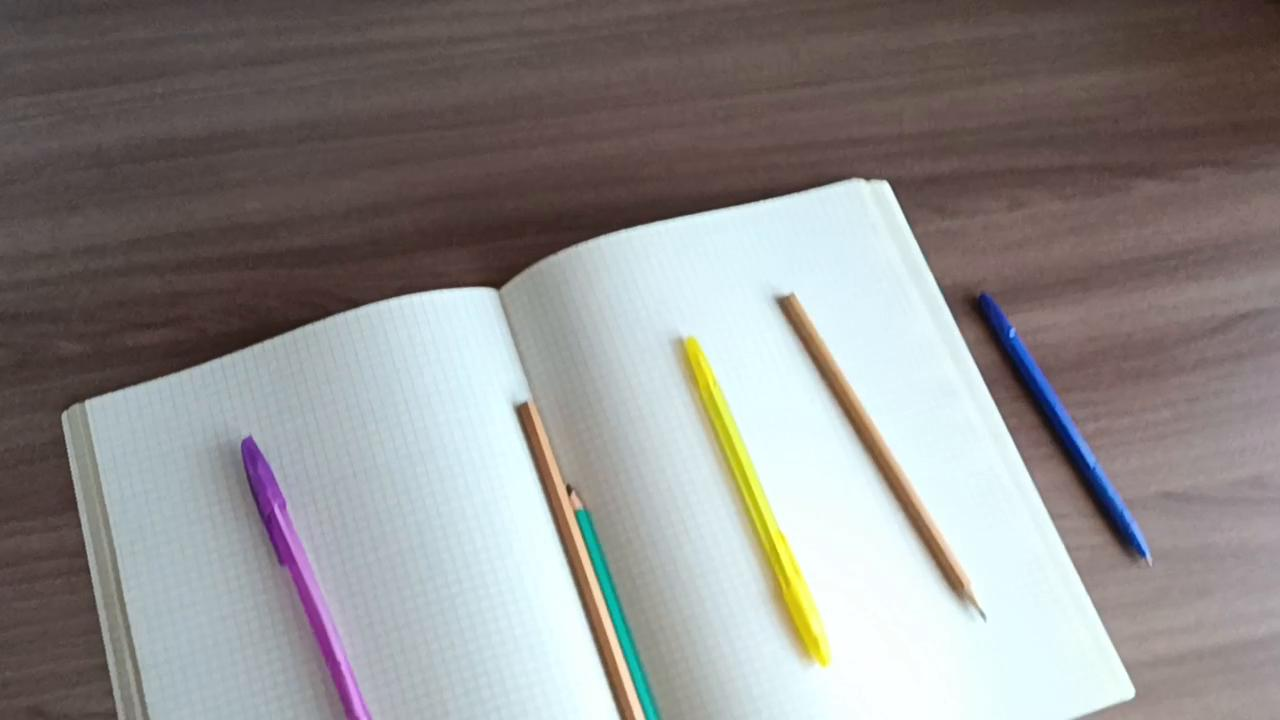pen: (677, 337, 839, 675), (974, 279, 1162, 570), (237, 432, 372, 720)
pencil: (774, 287, 993, 623), (510, 399, 647, 720), (564, 486, 669, 720)
